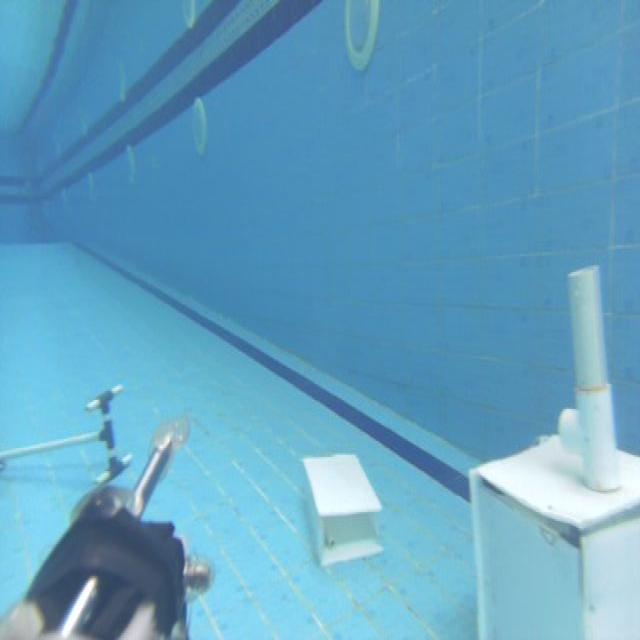Cube: (461, 426, 640, 640)
Cuboid: (300, 450, 384, 567)
